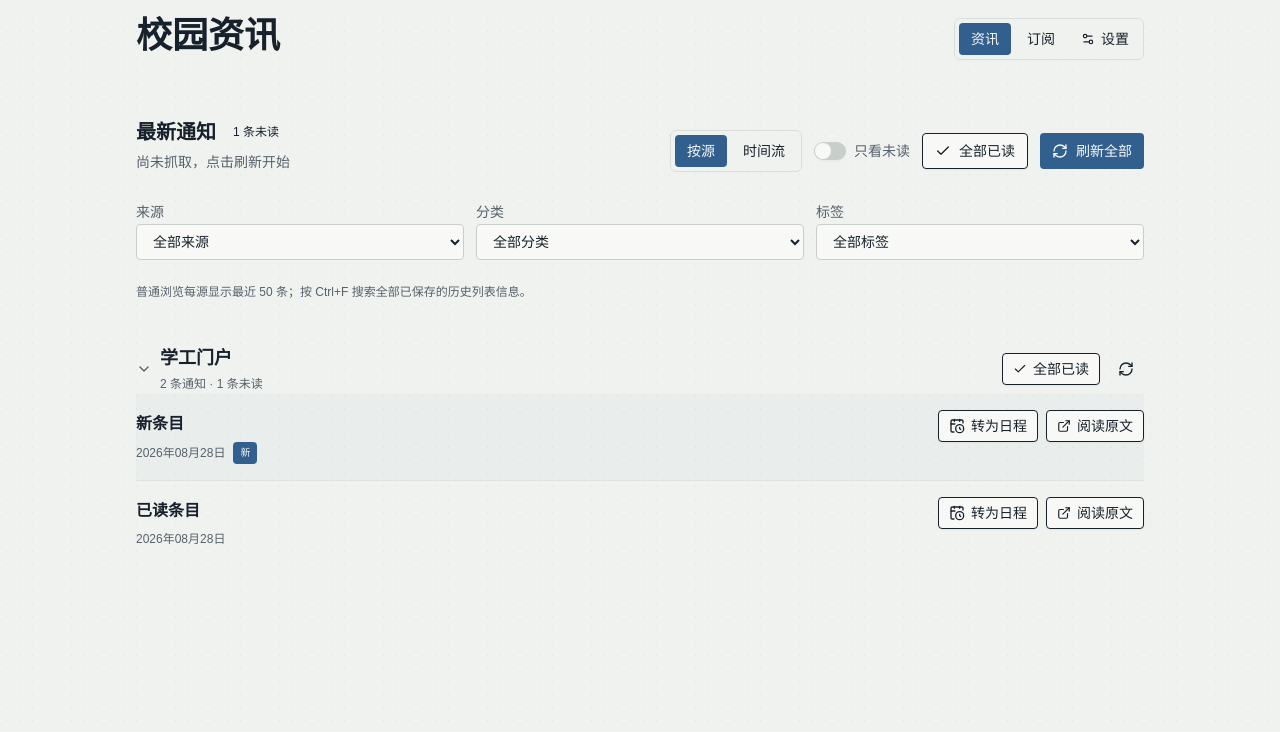
Scenario: campus-feed view (source/tag/unread filters) › filters to unread only when the switch is on
Expected: the heading "新条目" is shown, [136,415,184,432]
Expected: the heading "已读条目" is shown, [136,502,200,519]
Click the switch named "只看未读".
click(830, 151)  # box [814,142,846,160]
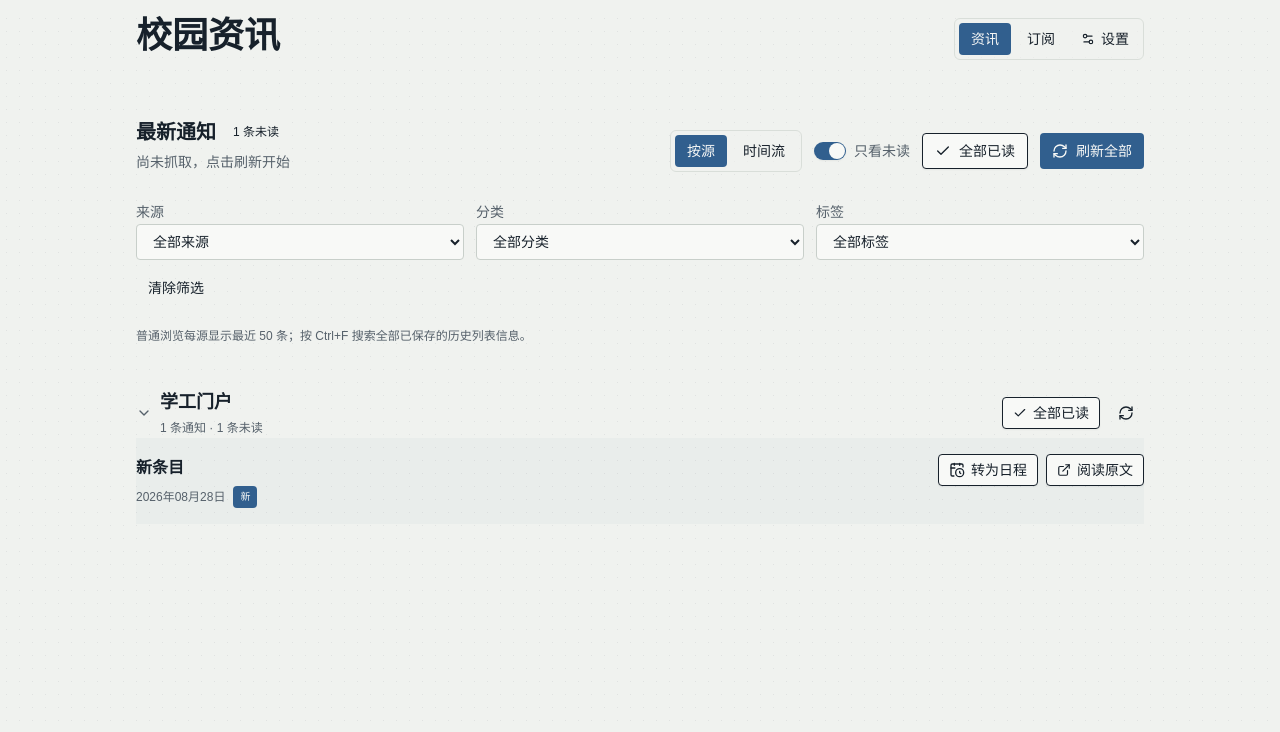
Expected: the heading "新条目" is shown, [136,459,184,476]
Now the heading "已读条目" is gone
